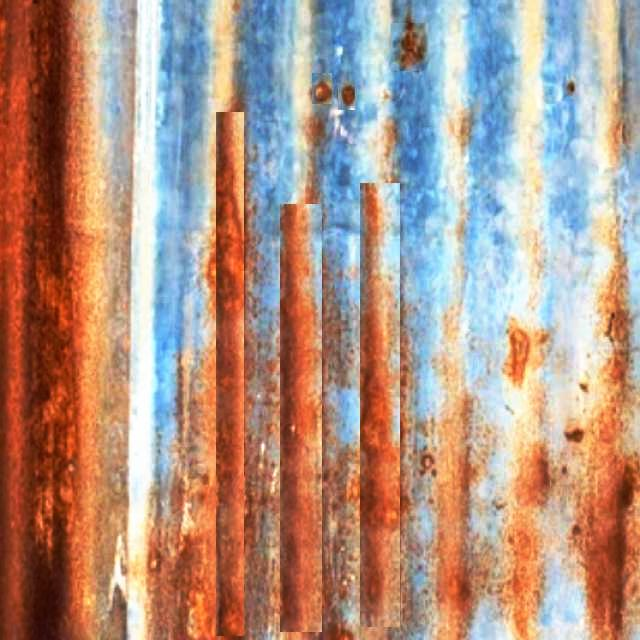Corrosion: (0, 0, 136, 640), (583, 240, 635, 640), (410, 306, 472, 640), (154, 304, 215, 640), (279, 204, 326, 636), (358, 182, 401, 630), (216, 112, 246, 640), (502, 396, 550, 640), (245, 426, 279, 640), (323, 416, 354, 640), (504, 324, 530, 386), (399, 16, 425, 69), (313, 80, 331, 102), (341, 84, 355, 105)
